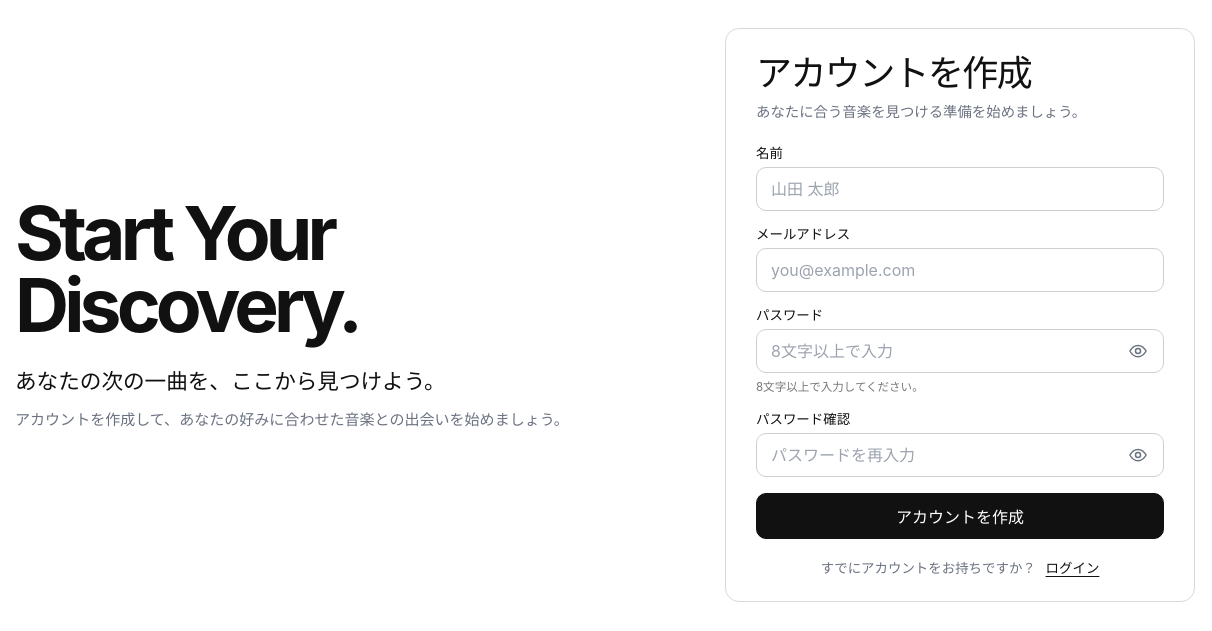
Scenario: SignupPage › shows an error for an invalid email format
The image size is (1212, 631).
In the field labelled "名前": [960, 189] box 756,167 -> 1164,211, type "Taro"
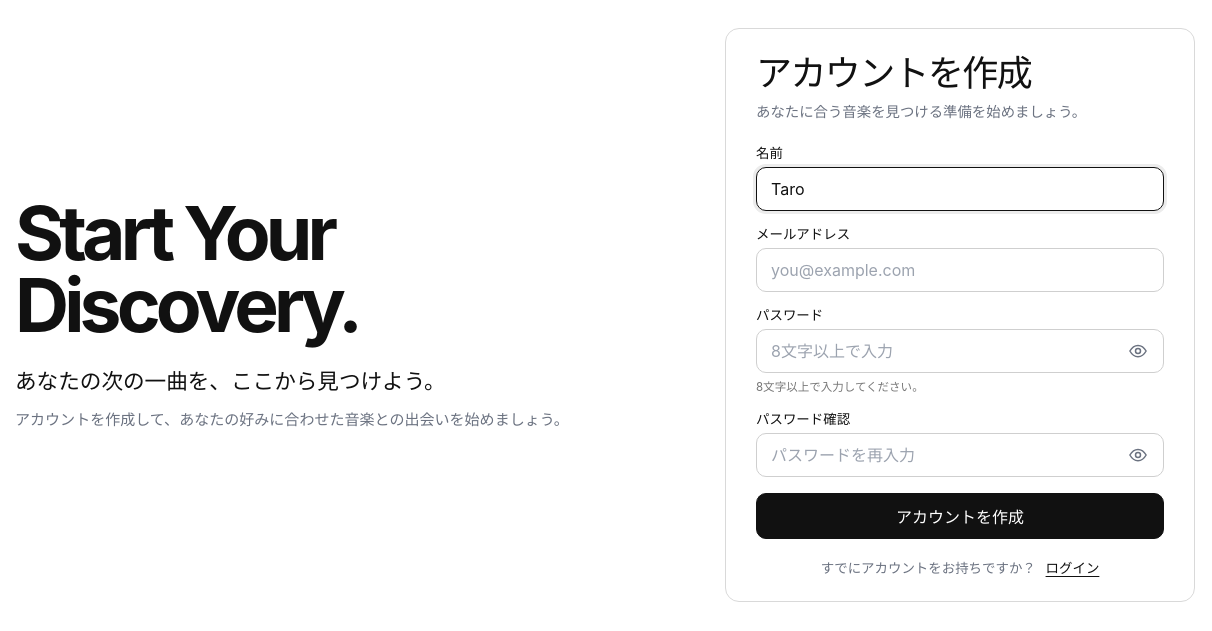
In the field labelled "メールアドレス": [960, 270] box 756,248 -> 1164,292, type "invalid-email"
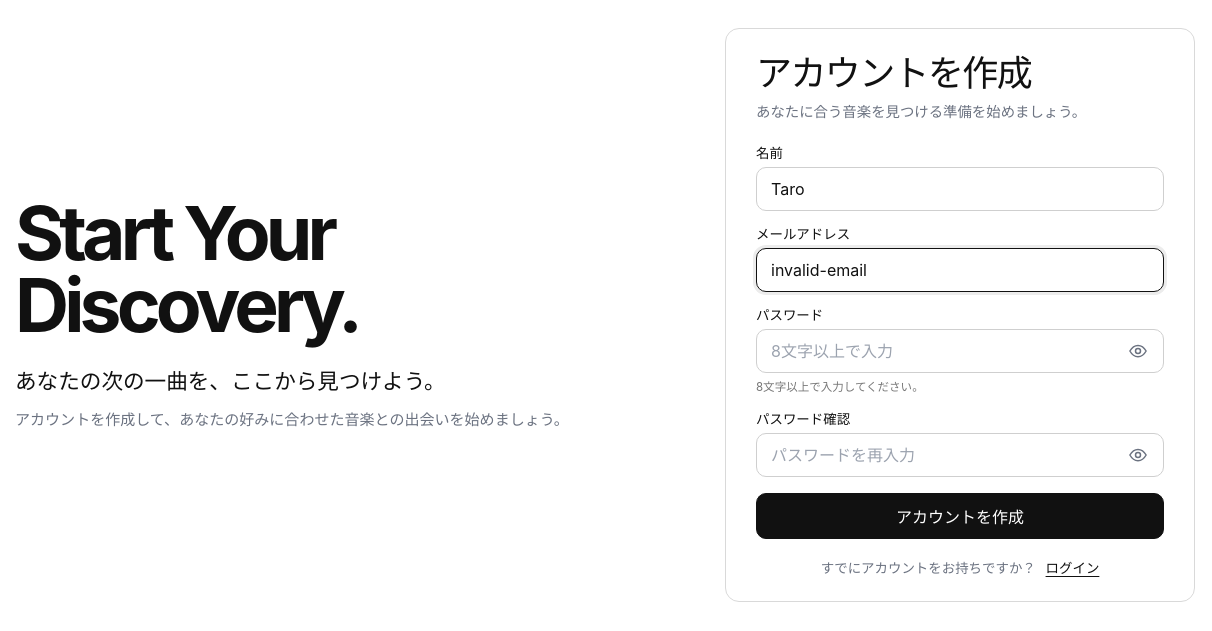
In the password field labelled "パスワード": [960, 351] box 756,329 -> 1164,373, type "password"
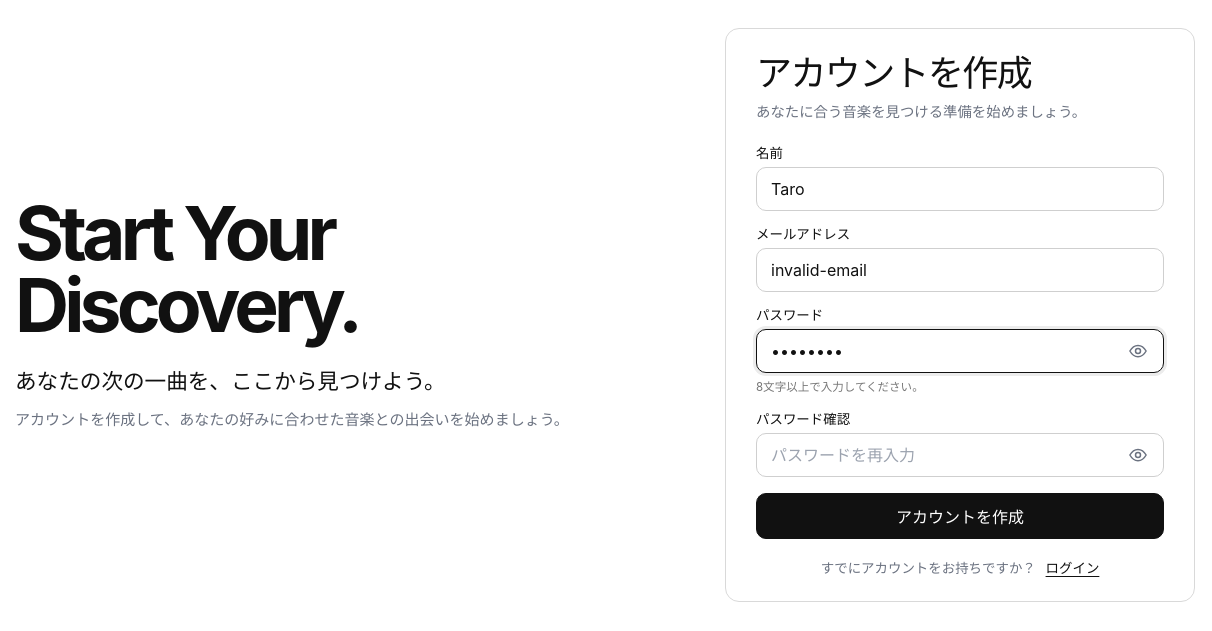
In the password field labelled "パスワード確認": [960, 455] box 756,433 -> 1164,477, type "password"
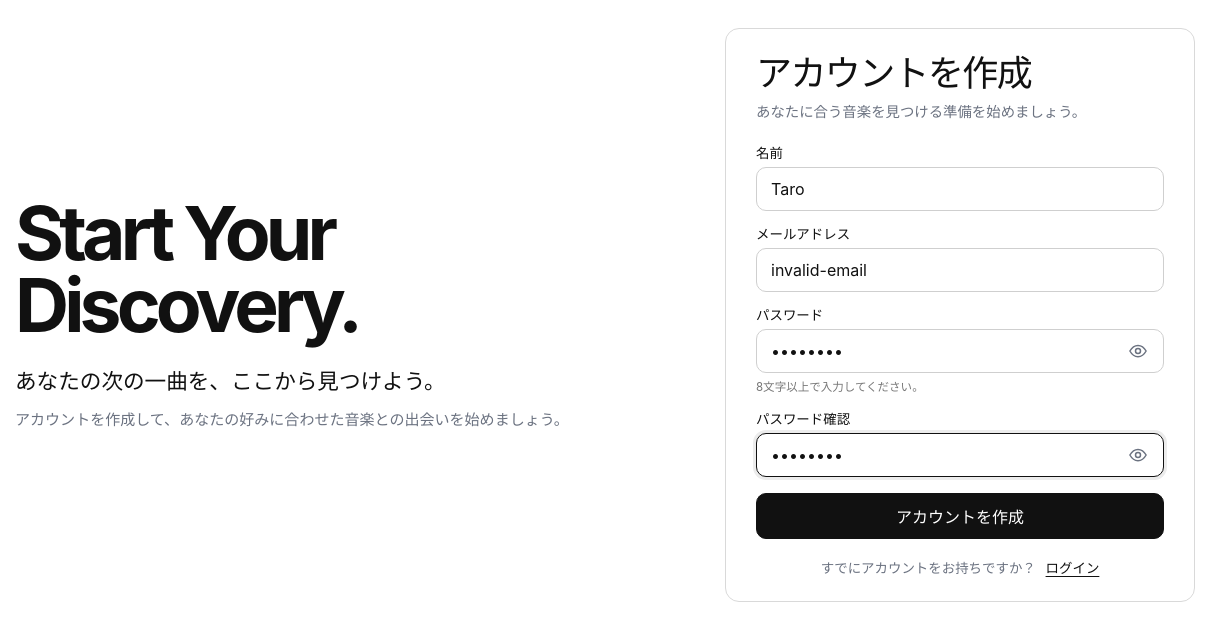
Click the button "アカウントを作成": [960, 516] box 756,493 -> 1164,539
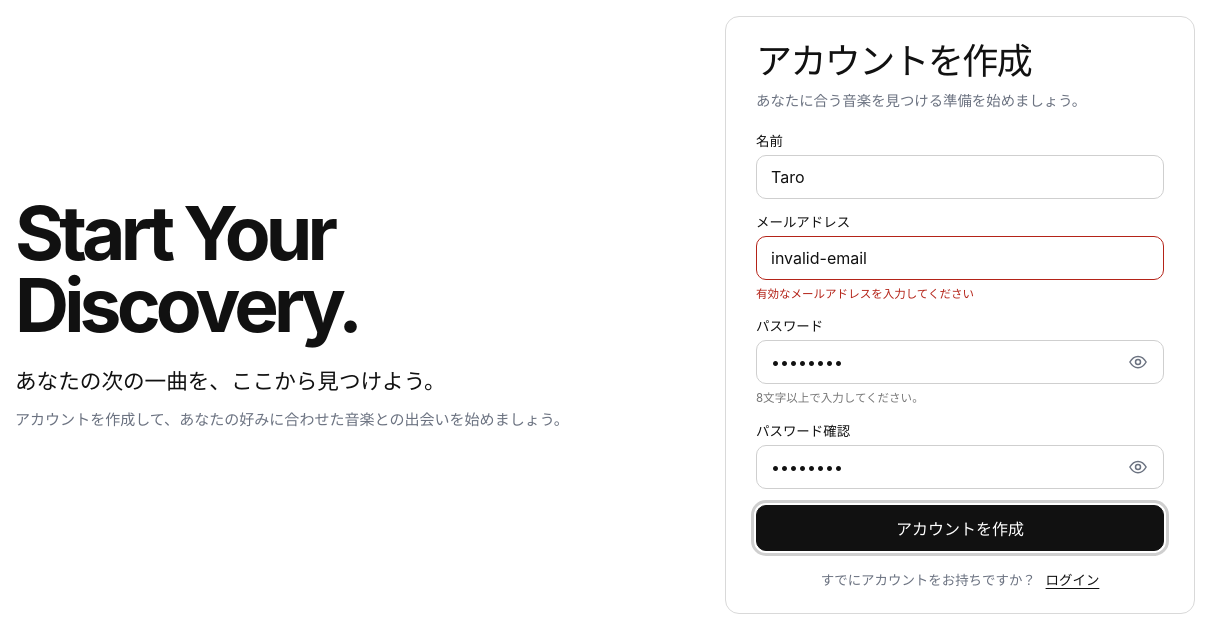
Now the text "有効なメールアドレスを入力してください" is shown, box 756,287 -> 974,301
